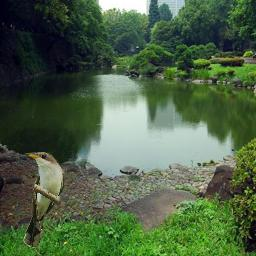Cuckoo: (23, 152, 65, 248)
